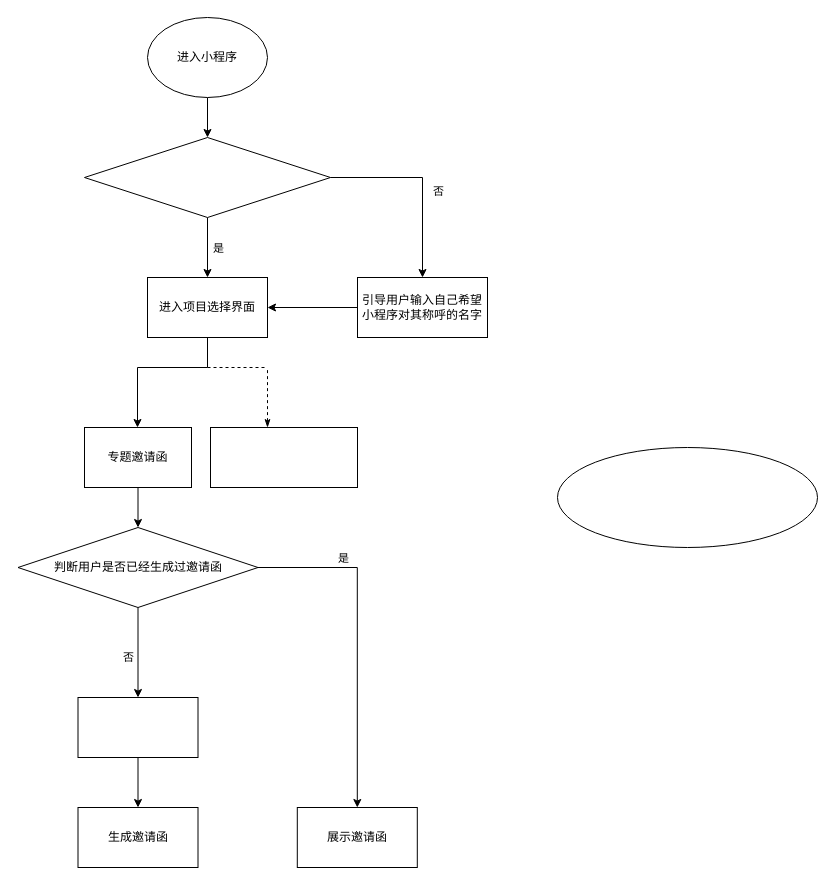
The diagram is 835 pixels wide and 885 high, and some of its shapes have lost their labels. The shapes that lost their labels are listed below. From the top down, each one's box as (x1, y1, x2, y2) in pixels, then its label:
(84, 136, 330, 218): 判断用户是否填写过名称
(210, 426, 358, 488): 其他（暂未设定的功能）
(556, 446, 818, 548): 用户想修改名称，可以进入“我的”自行修改
(77, 696, 198, 758): 进入盲盒抽卡界面
